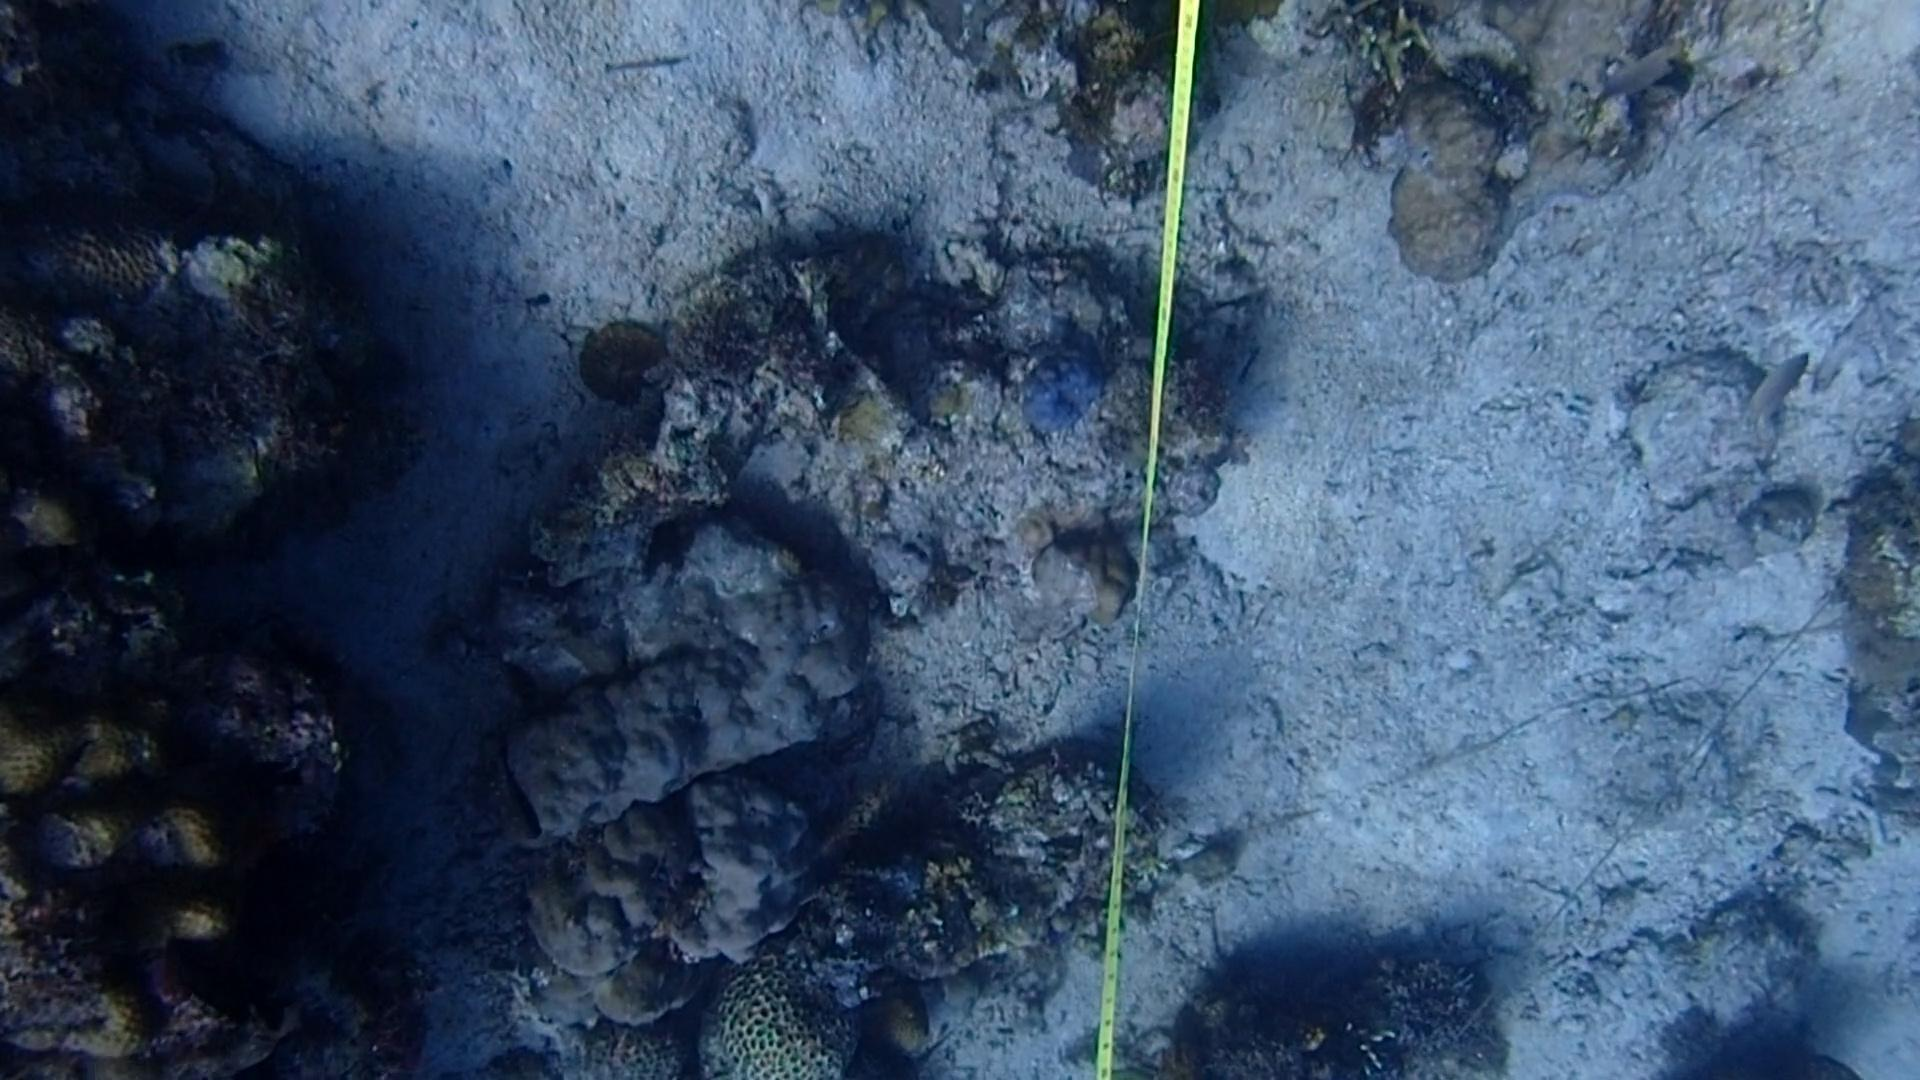Dark Fish: (142, 731, 291, 812), (173, 927, 295, 1019), (480, 745, 560, 849), (178, 162, 277, 244)
Light Fish: (1733, 342, 1820, 452)
